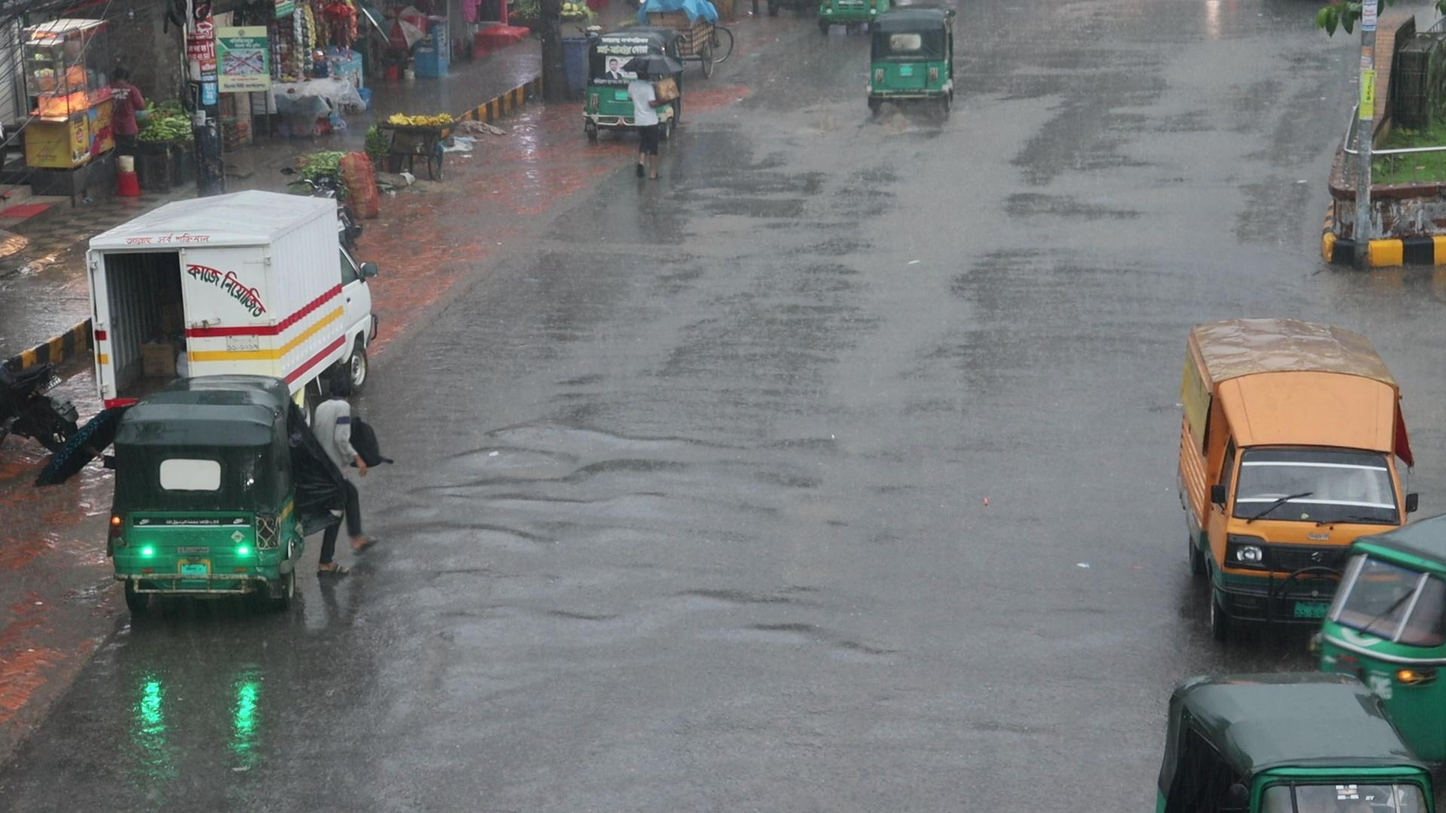Truck: (1176, 315, 1411, 628)
